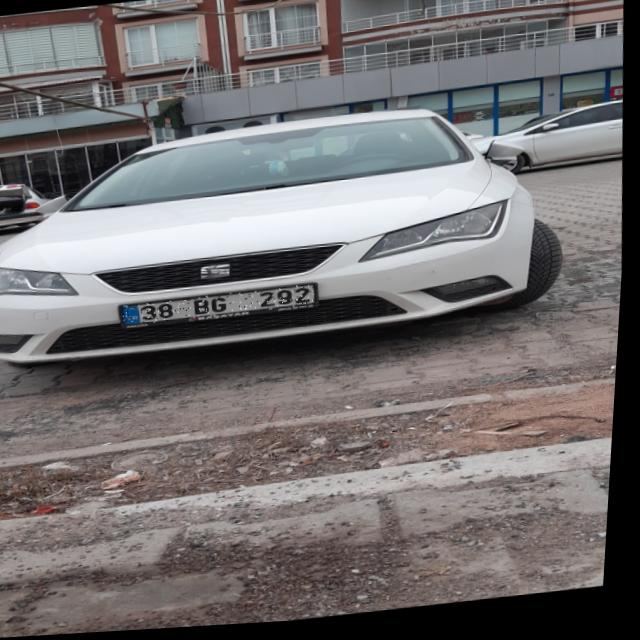license_plate: (123, 288, 321, 328)
